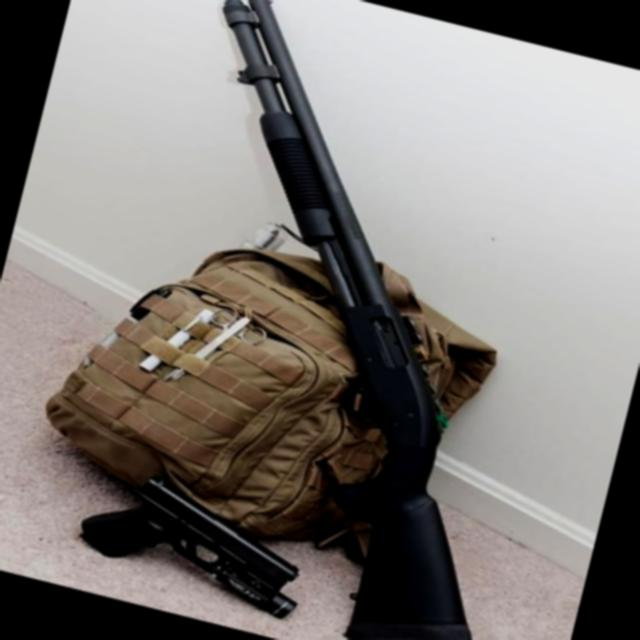shotgun: (70, 0, 615, 640)
